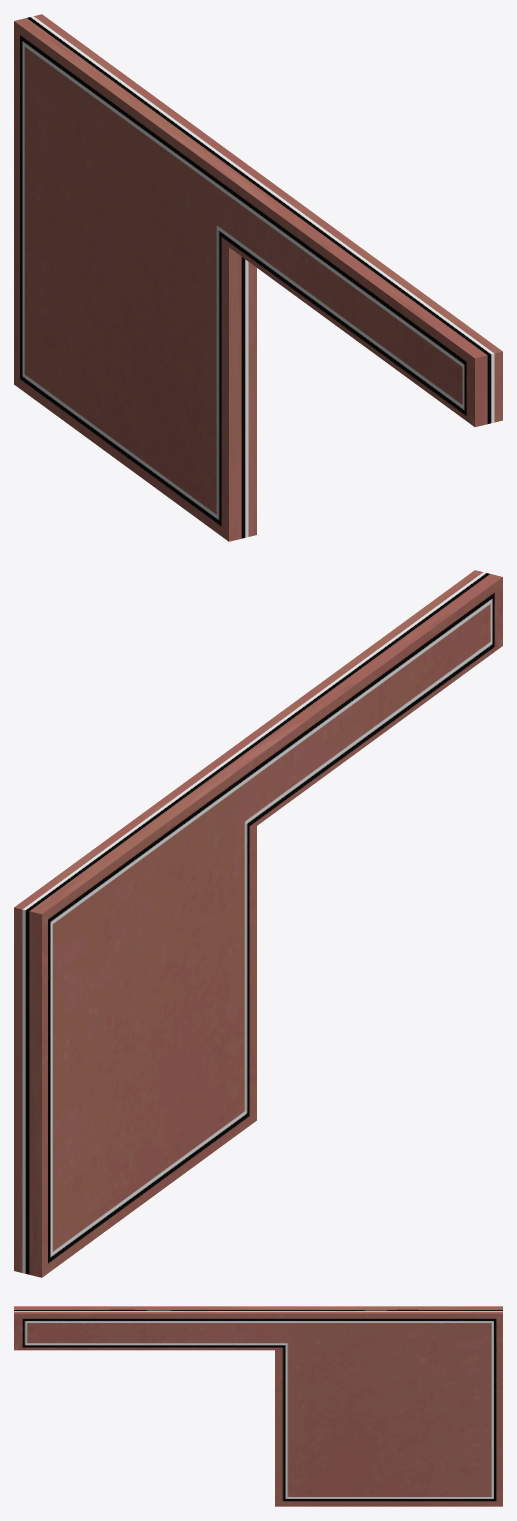
Rendered from SM_Wall08J.fbx.
The picture shows the model from 3 angles, top to bottom: view 1: azimuth 30°, elevation 25°; view 2: azimuth 150°, elevation 25°; view 3: azimuth 270°, elevation 25°; orthographic projection. The views are drawn at different scales.
Visible parts, largest first — view 1: SM_Wall08J; view 2: SM_Wall08J; view 3: SM_Wall08J.
Boxes of the visible parts, x1,y1,x2,y2 form: SM_Wall08J: [14, 14, 502, 541]; SM_Wall08J: [14, 570, 502, 1277]; SM_Wall08J: [14, 1306, 502, 1506].
Bounding box in the file's own units: 8.45 × 241 × 105.
1 material, 1 textured.
